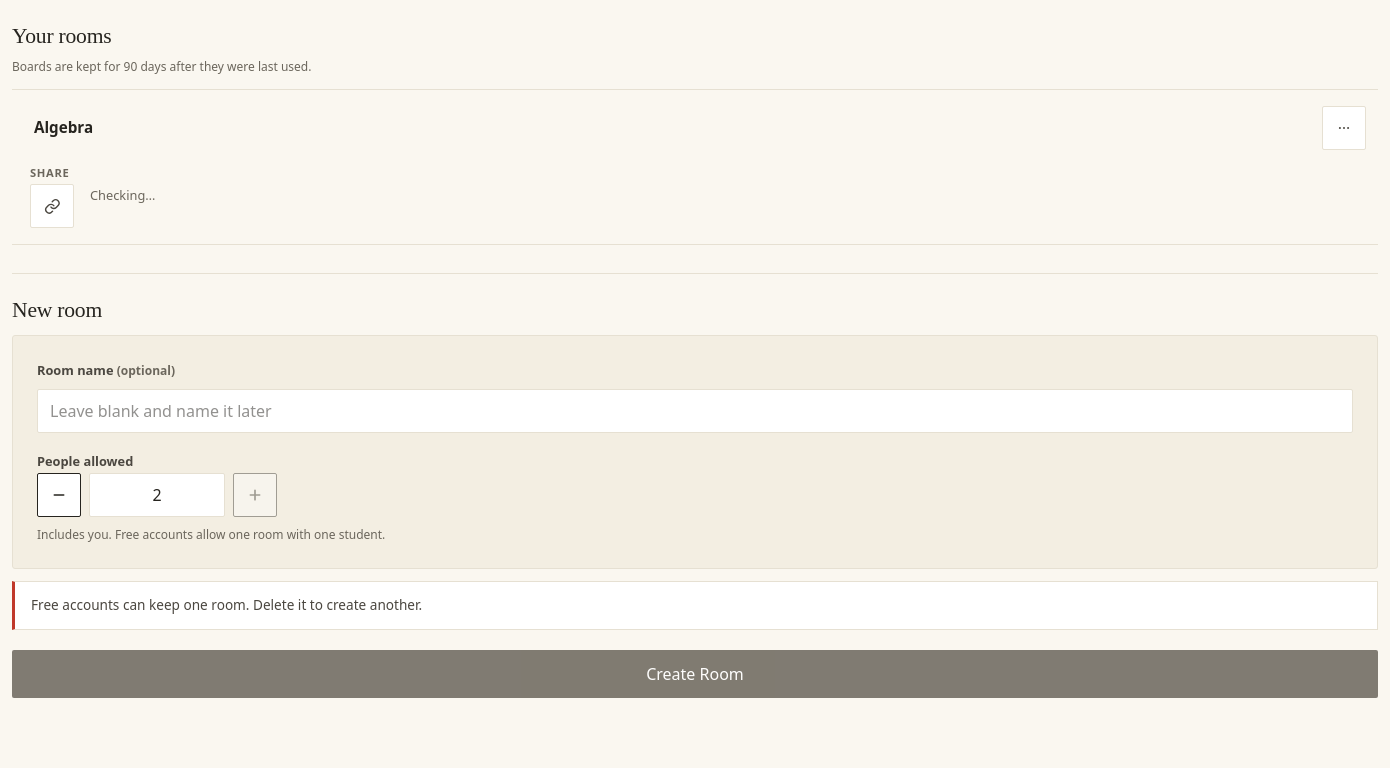
Test case: TeacherRoomsPanel rename and delete › reloads the list after a rename lands and renames the row
Expected: the link with test id "whiteboard-room-list-item-room-alpha" is shown, [34,117,93,137]
Click the button with test id "whiteboard-room-menu-room-alpha" at [1344, 128], box [1322,106,1366,150]
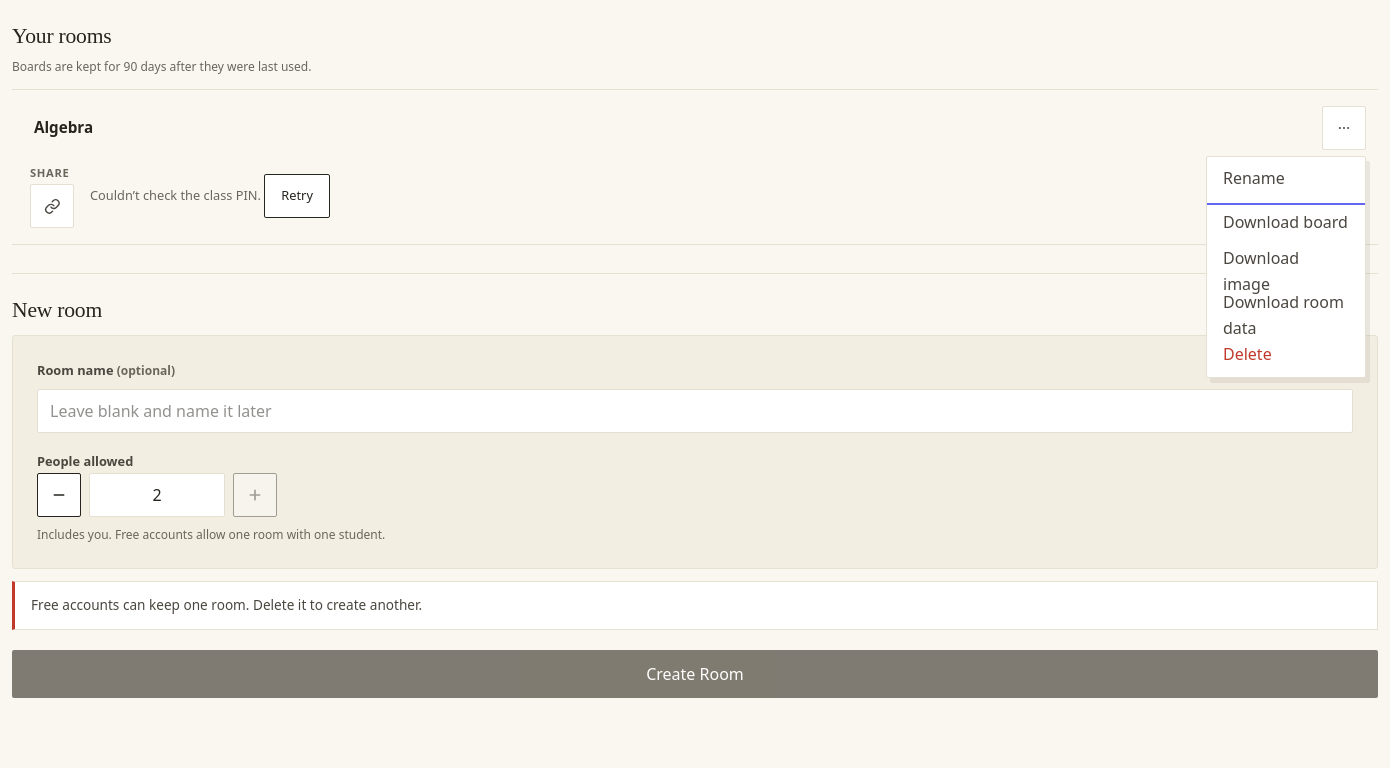
Click the menu item with test id "whiteboard-room-rename-room-alpha" at [1286, 179], box [1207,157,1365,201]
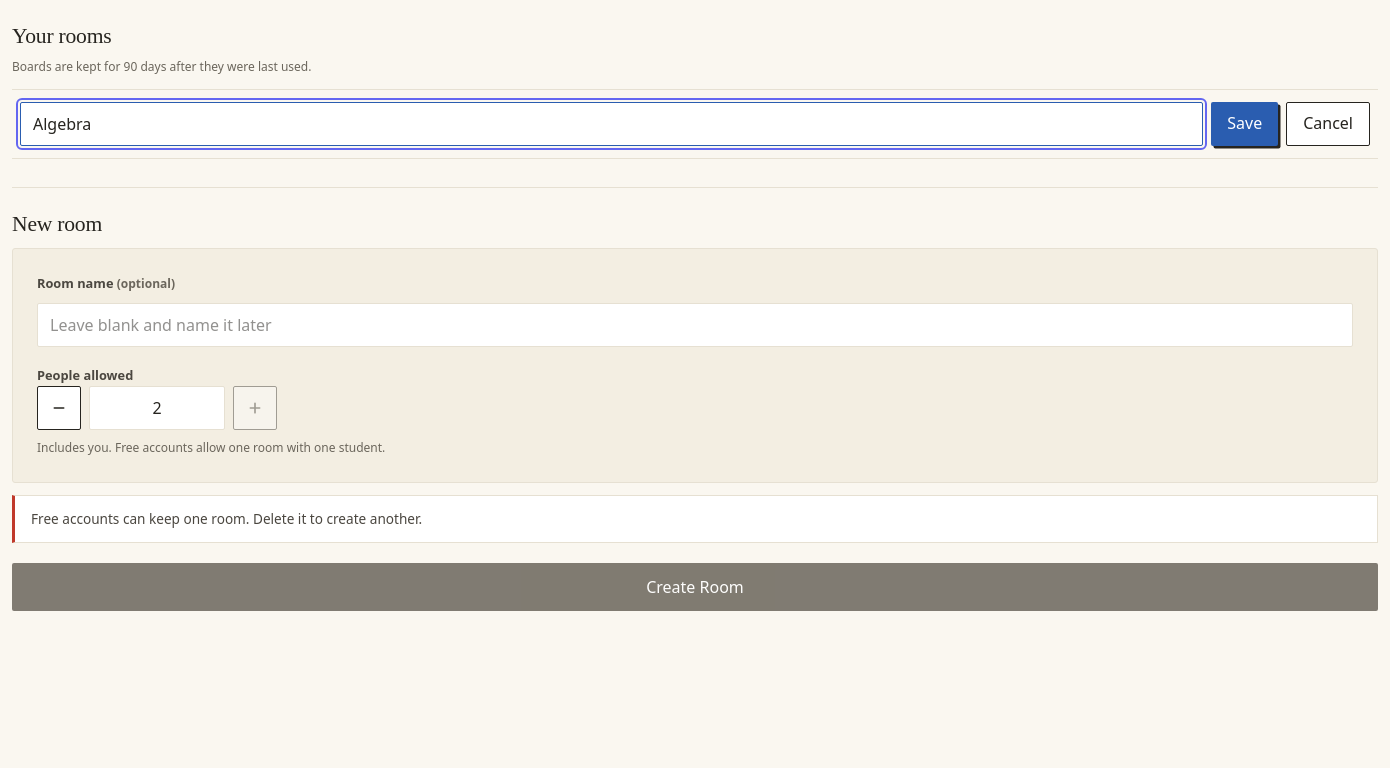
Replace the text in the field with test id "whiteboard-room-name-input-room-alpha" with "Geometry" at [612, 124], box [20,102,1203,146]
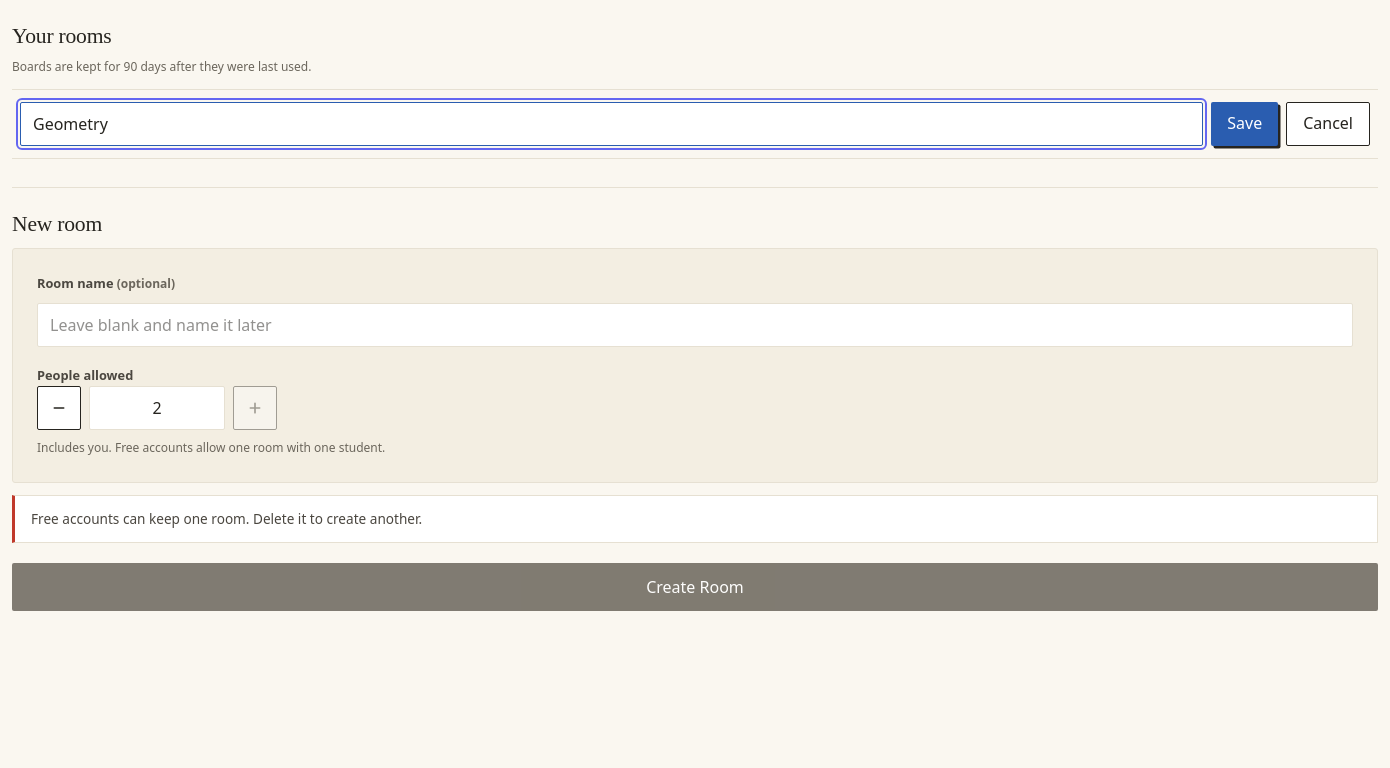
Click the button with test id "whiteboard-room-name-save-room-alpha" at [1245, 124], box [1211,102,1278,146]
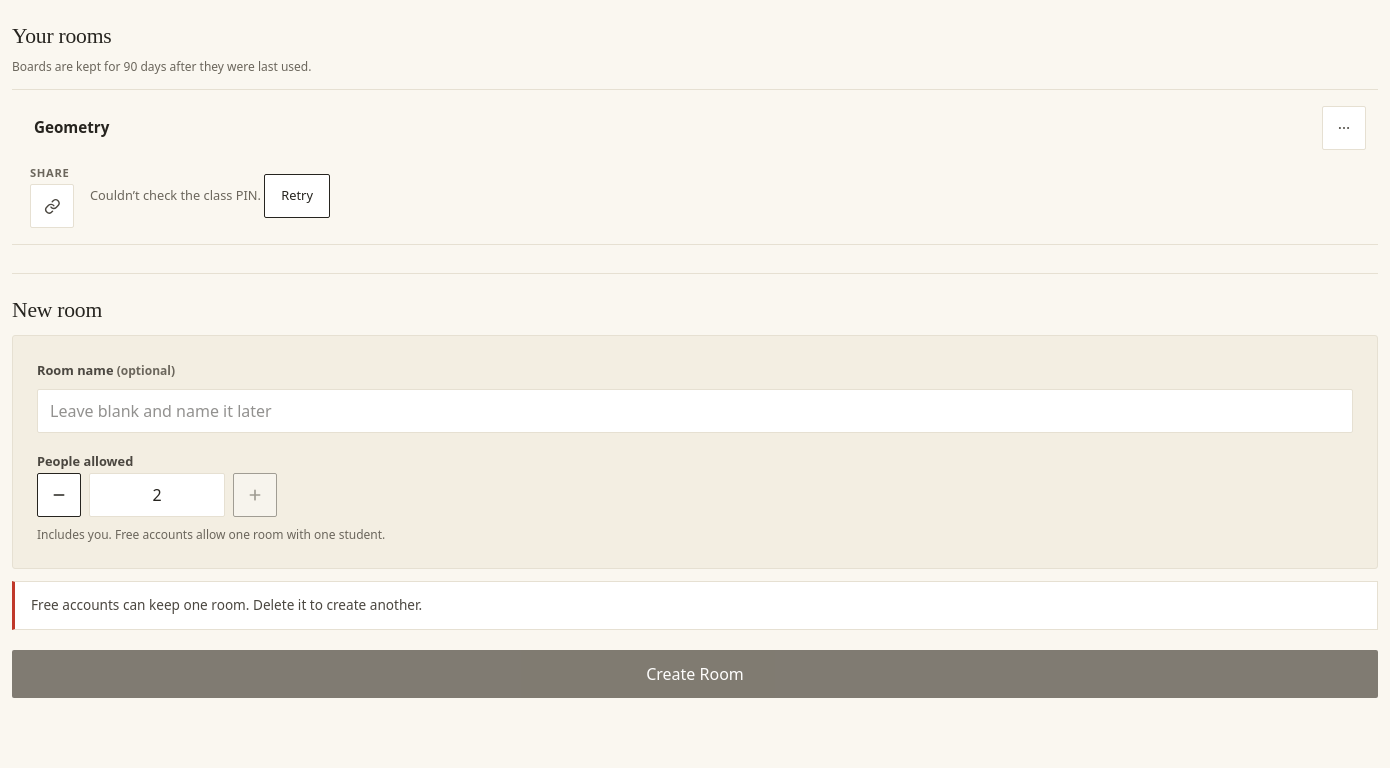
Result: the link with test id "whiteboard-room-list-item-room-alpha" reads "Geometry" at [34,117,109,137]
Result: the field with test id "whiteboard-room-name-input-room-alpha" is gone
